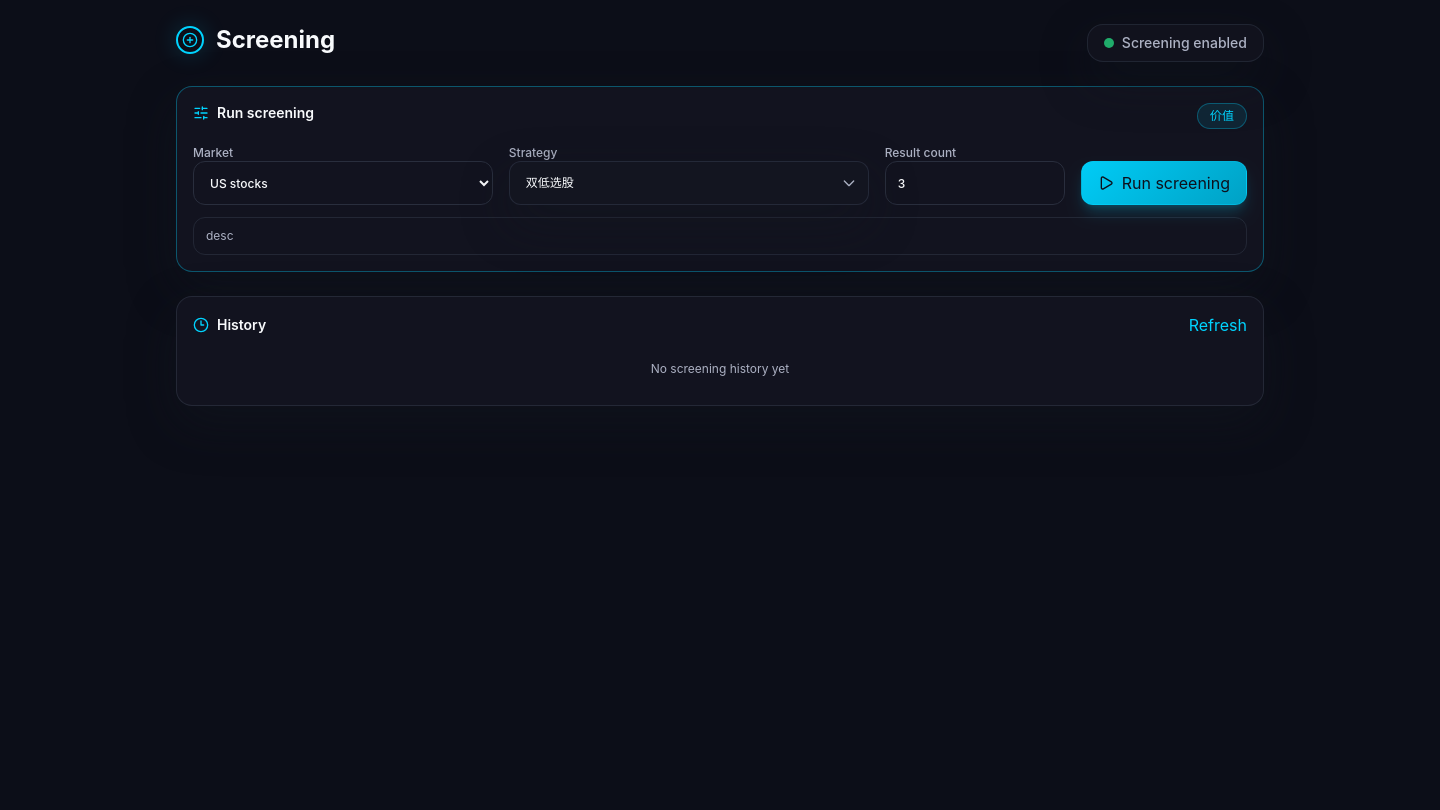
StockScreeningPage › clears previous screening candidates when strategy changes
The width and height of the screenshot is (1440, 810).
Expected: the text "Screening enabled" is shown, [1122, 33, 1247, 53]
Step 1. Click the button "Run screening" → (1164, 183), box [1081, 161, 1247, 205]
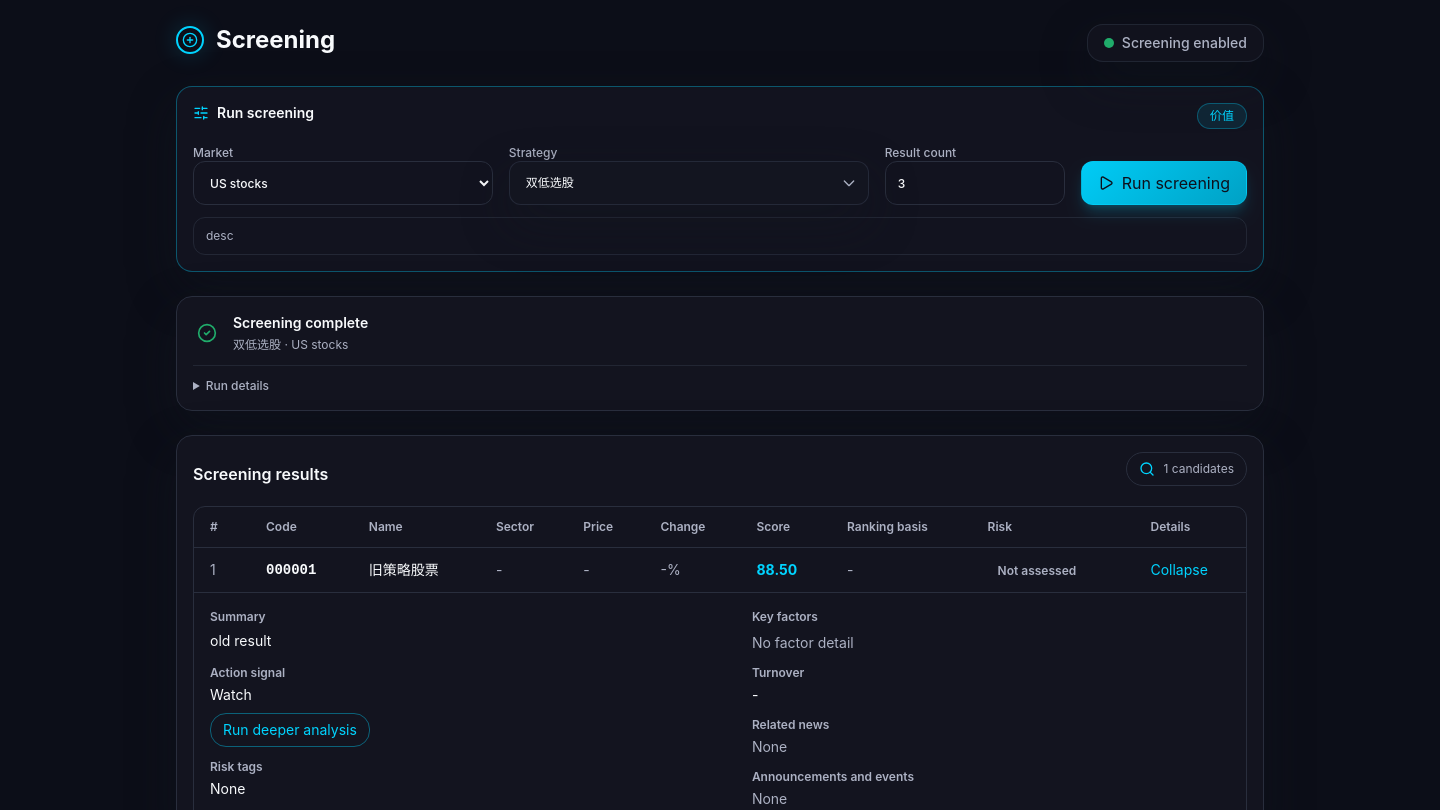
Expected: the text "旧策略股票" is shown, [353, 548, 480, 592]
Expected: the heading "Screening complete" is shown, [233, 313, 368, 333]
Step 2. Select "资金热度" in the dropdown labelled "Strategy" → (689, 183), box [509, 161, 869, 205]
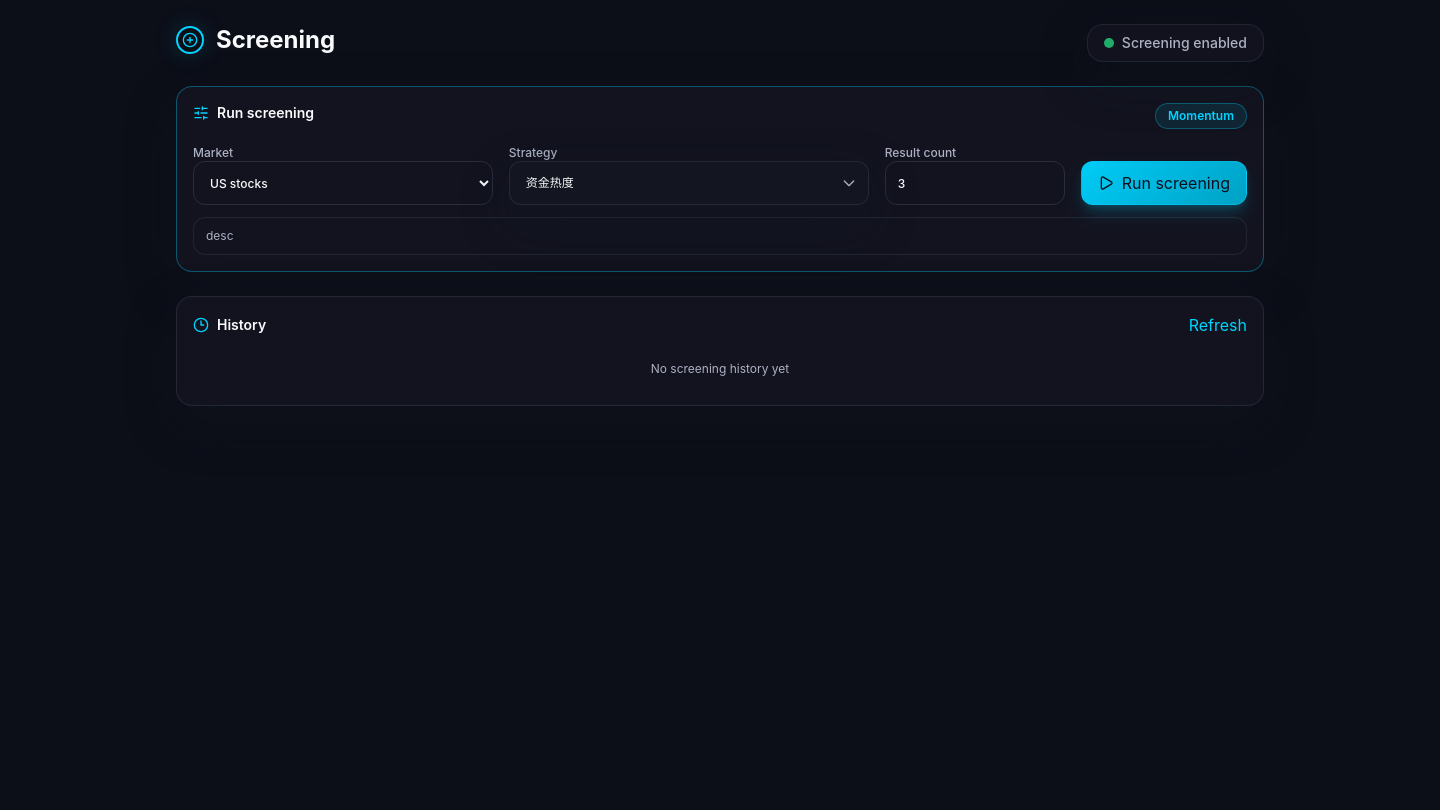
Expected: the text "旧策略股票" is gone
Expected: the heading "Screening complete" is gone
